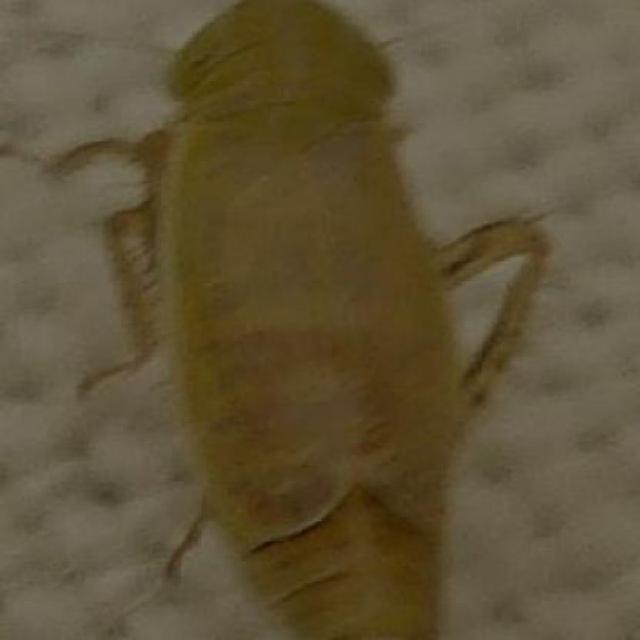green-leafhopper: (124, 0, 538, 640)
